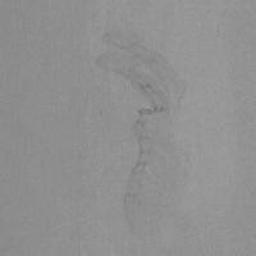Water spot: (93, 29, 201, 243)
